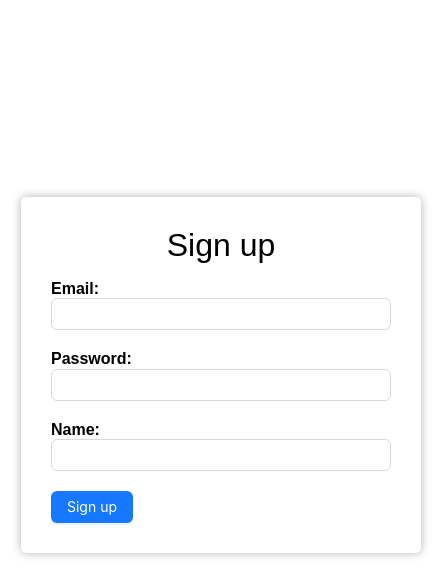
Scenario: RisgterComponent › renders the component
Expected: the text "Email:" is shown, [51, 280, 99, 297]
Expected: the text "Password:" is shown, [51, 350, 132, 367]
Type "test.com" into the field with test id "signupInputEmail" at (221, 314), box [51, 298, 391, 330]
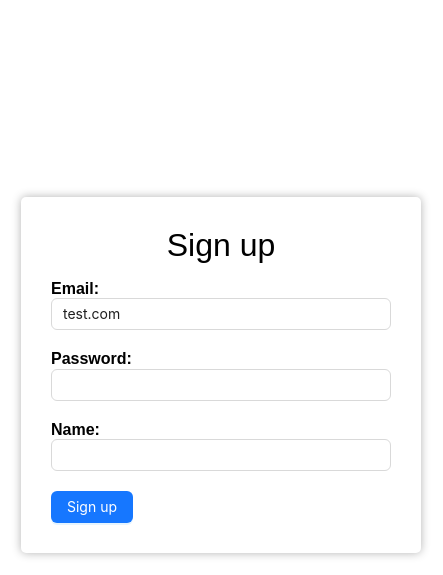
Type "test" into the field with test id "signupInputPassword" at (221, 385), box [51, 369, 391, 401]
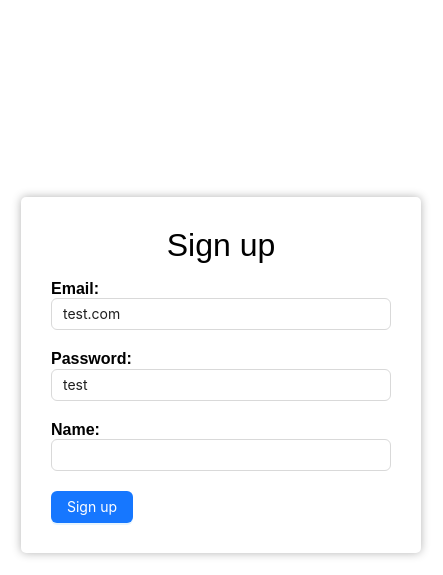
Click the button with test id "signupButton" at (92, 507), box [51, 491, 133, 523]
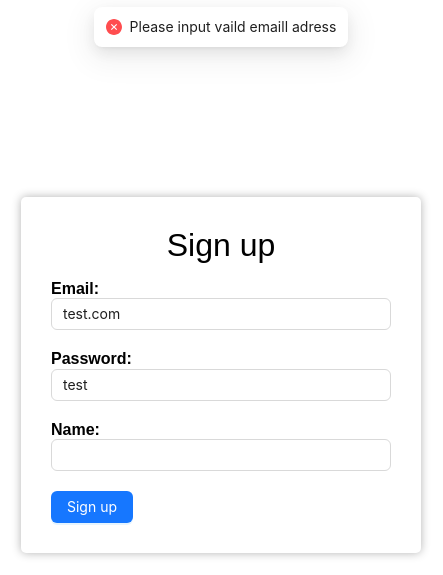
Now the text "Please input vaild emaill adress" is shown, box [130, 16, 336, 38]
